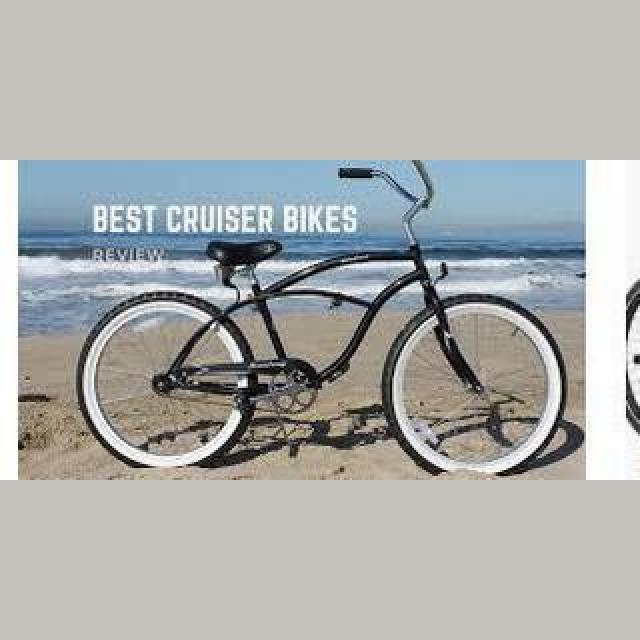Person: (74, 160, 566, 480)
